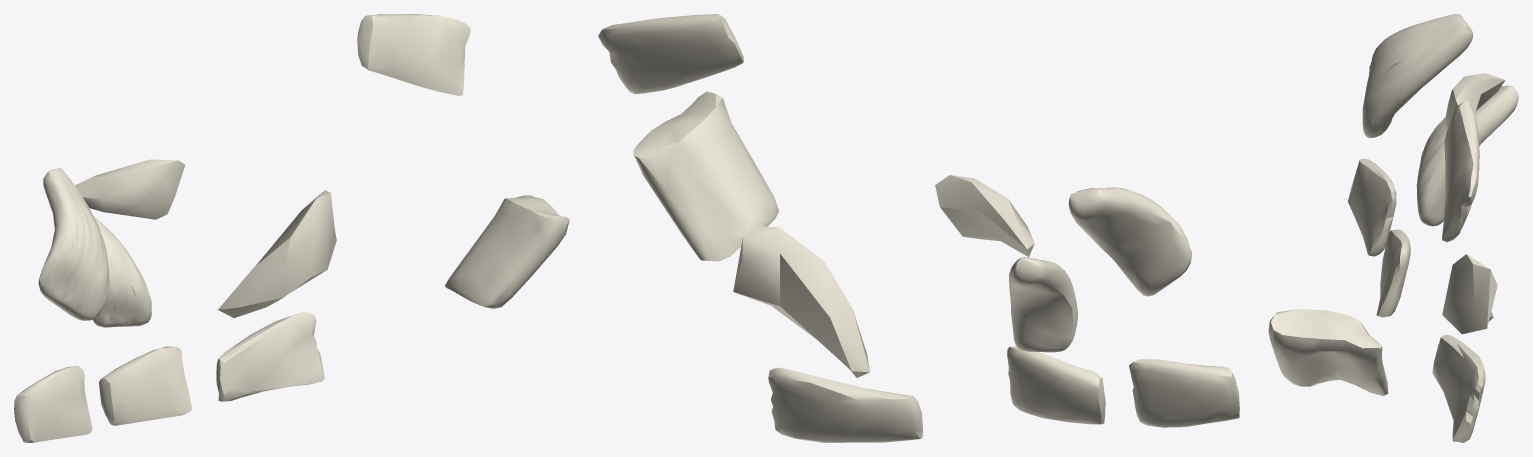
The model's file is fma42310_mm1434m.glb.
3 views of the same model, side by side, from view 1: azimuth 30°, elevation 25°; view 2: azimuth 150°, elevation 25°; view 3: azimuth 270°, elevation 25° (orthographic). The views are drawn at different scales.
Visible parts, largest first — view 1: FMA42310_MM1434M; view 2: FMA42310_MM1434M; view 3: FMA42310_MM1434M.
Boxes of the visible parts, x1,y1,x2,y2 form: FMA42310_MM1434M: [14, 14, 569, 442]; FMA42310_MM1434M: [598, 14, 1239, 442]; FMA42310_MM1434M: [1268, 14, 1518, 442].
Size of the model in its own units: 0.0321 by 0.0206 by 0.0126.
